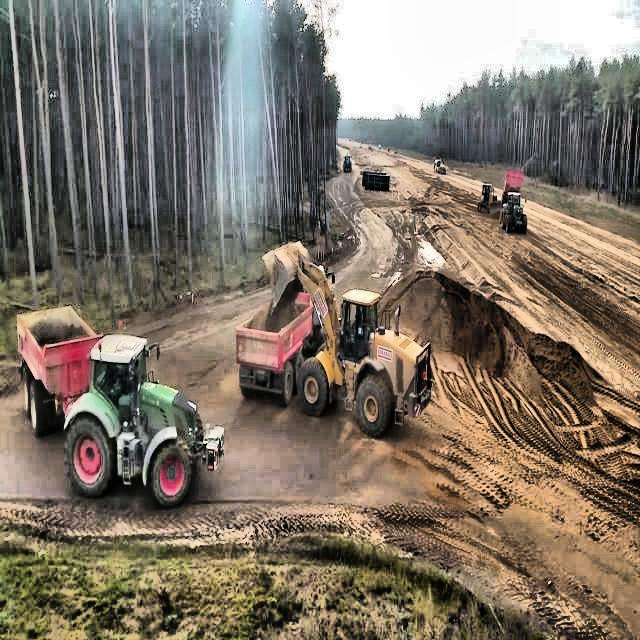bull_dozer/loader/grader: (259, 240, 433, 438)
dump_truck: (14, 301, 224, 507), (234, 283, 320, 409)
